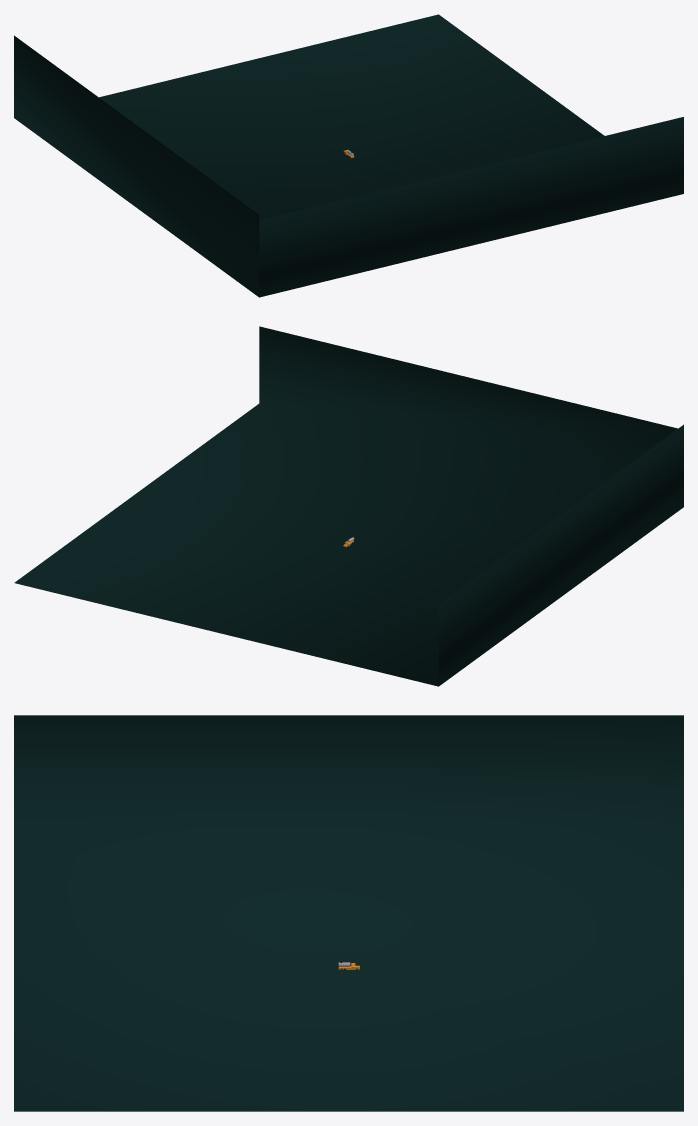
Rendered from TRUCK.glb.
3 views of the same model, one above another, from view 1: azimuth 30°, elevation 25°; view 2: azimuth 150°, elevation 25°; view 3: azimuth 270°, elevation 25° (orthographic). The views are drawn at different scales.
Parts seen in each view (by area): view 1: BG; view 2: BG; view 3: BG.
Part boxes in pixels (x1,y1,x2,y2): BG: [14, 14, 683, 297]; BG: [14, 326, 683, 686]; BG: [14, 715, 683, 1111].
Size of the model in its own units: 83.31 by 15.51 by 83.31.
